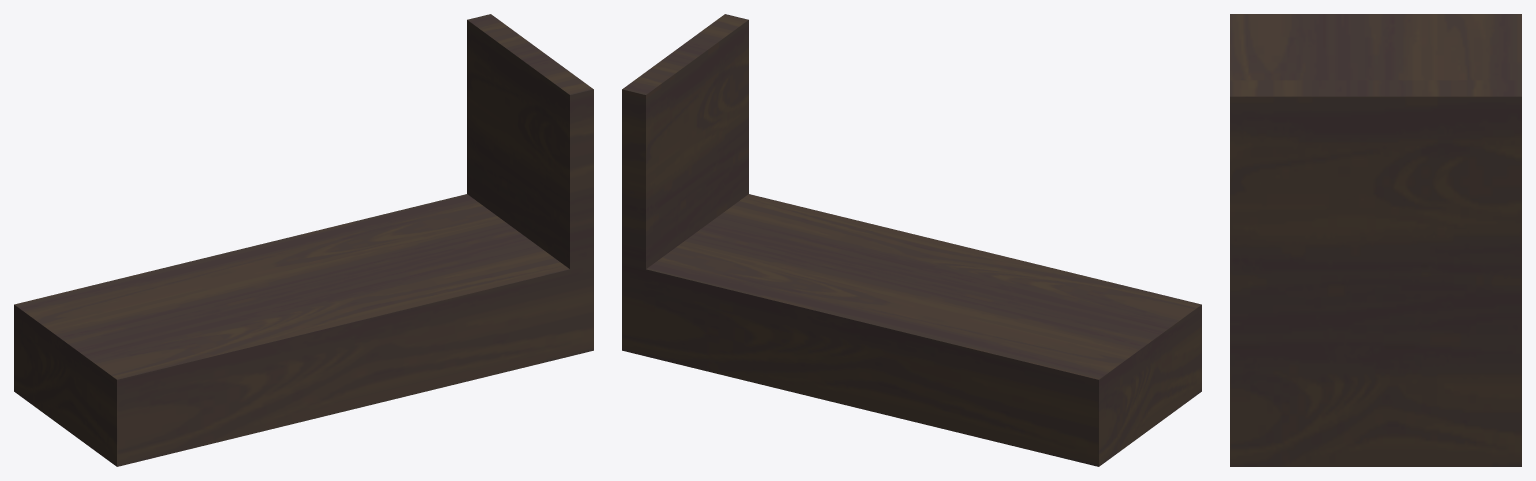
Rendered from small_bed.fbx.
3 renders of one model, left to right at view 1: azimuth 30°, elevation 25°; view 2: azimuth 150°, elevation 25°; view 3: azimuth 270°, elevation 25°, orthographic. The views are drawn at different scales.
Visible parts, largest first — view 1: small_bed.001; view 2: small_bed.001; view 3: small_bed.001.
Part boxes in pixels (x1,y1,x2,y2): small_bed.001: [14, 14, 593, 466]; small_bed.001: [622, 14, 1201, 466]; small_bed.001: [1230, 14, 1521, 466].
Size of the model in its own units: 2.22 by 1.16 by 0.8313.
1 material, 1 textured.
